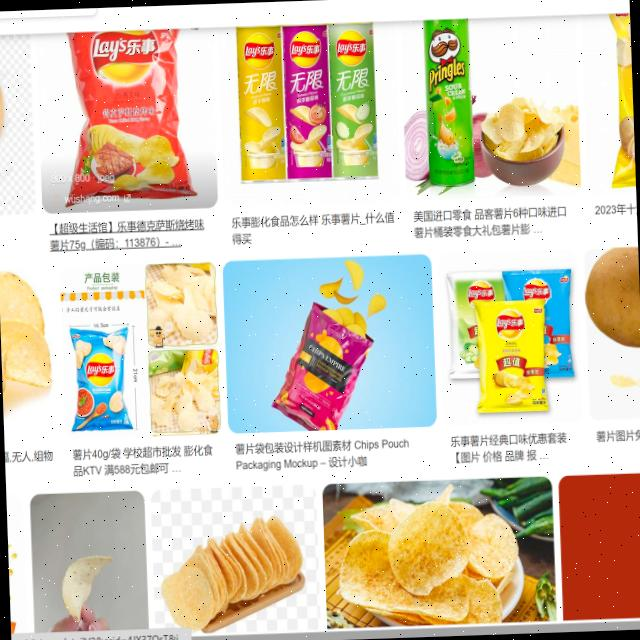lay-s_chip: (90, 26, 162, 84), (289, 31, 322, 68), (336, 29, 368, 66), (84, 353, 117, 388), (243, 34, 275, 70), (496, 309, 526, 342), (524, 276, 551, 309), (468, 279, 496, 309)
